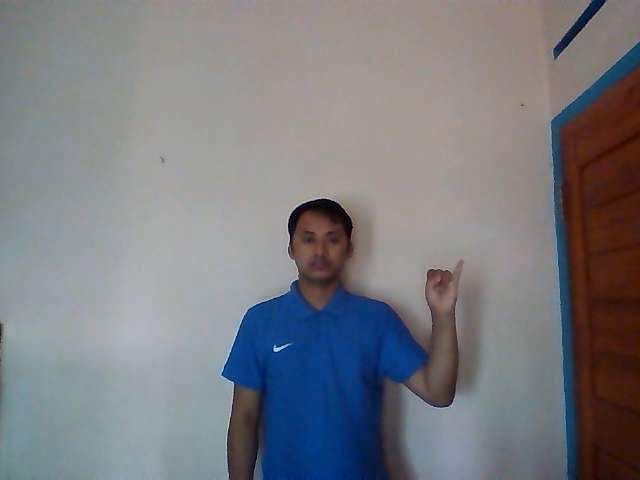I: (423, 258, 465, 316)
